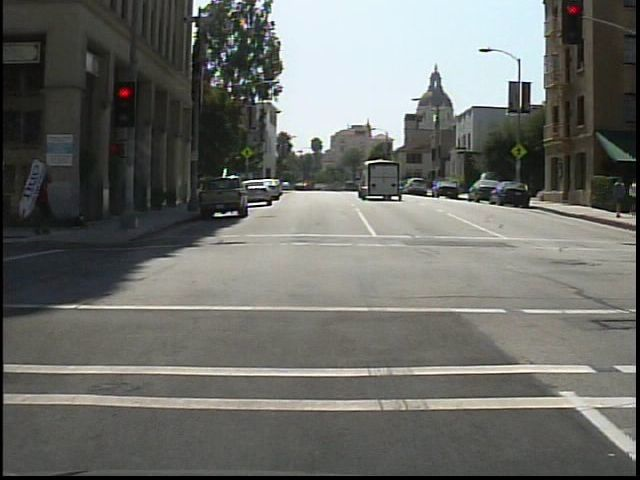person: (25, 164, 66, 238), (609, 174, 629, 221), (625, 175, 637, 216)
